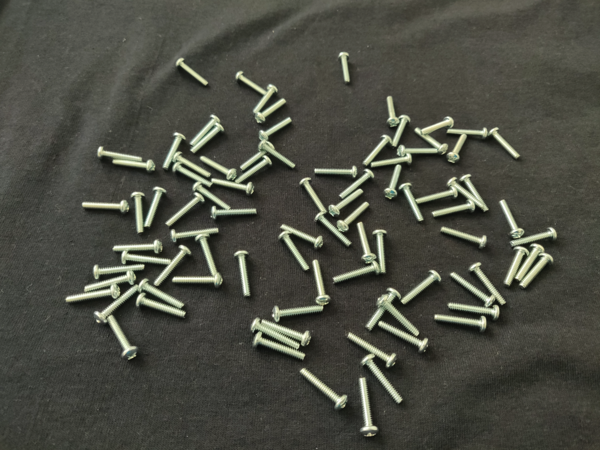longscrew: (356, 354, 405, 409), (299, 367, 349, 412), (345, 331, 399, 369), (375, 294, 421, 338), (93, 284, 140, 327), (468, 262, 508, 308), (378, 321, 430, 356), (250, 316, 302, 350), (153, 243, 193, 287), (449, 271, 496, 308), (105, 314, 140, 363), (365, 287, 403, 332), (252, 331, 307, 362), (355, 377, 381, 441), (165, 191, 206, 231), (400, 269, 442, 307), (139, 278, 188, 310), (261, 318, 313, 348), (313, 211, 353, 249), (518, 252, 555, 292), (278, 231, 311, 275), (135, 293, 189, 319), (446, 177, 486, 211), (83, 269, 138, 293), (279, 223, 325, 251), (433, 312, 489, 335), (515, 243, 547, 283), (332, 260, 381, 286), (194, 233, 221, 280), (487, 126, 522, 162), (440, 225, 490, 250), (459, 174, 490, 214), (65, 283, 121, 305), (193, 182, 234, 212), (233, 249, 256, 302), (502, 246, 531, 288), (170, 162, 215, 189), (257, 141, 298, 170), (399, 182, 426, 226), (339, 168, 375, 201), (446, 302, 502, 323), (298, 177, 328, 216), (234, 155, 274, 184), (498, 199, 526, 240), (239, 141, 276, 172), (189, 113, 222, 147), (191, 122, 226, 154), (336, 201, 371, 233), (413, 126, 449, 157), (172, 151, 213, 178), (310, 259, 333, 307), (175, 57, 211, 87), (510, 226, 559, 248), (143, 186, 168, 229), (328, 189, 366, 217), (161, 131, 187, 171), (363, 134, 394, 167), (271, 305, 327, 323), (198, 155, 238, 180), (355, 222, 378, 265), (92, 263, 147, 280), (252, 83, 280, 116), (414, 185, 458, 206), (169, 227, 223, 244), (171, 273, 225, 290), (254, 98, 289, 124), (258, 117, 294, 142), (235, 70, 269, 96), (212, 178, 256, 198), (432, 199, 476, 219), (80, 199, 131, 216), (112, 239, 165, 255), (373, 229, 390, 278), (209, 205, 261, 221), (121, 249, 172, 265), (383, 163, 403, 203), (96, 146, 145, 162), (130, 190, 147, 236), (447, 133, 470, 165), (371, 153, 414, 170), (420, 116, 456, 136), (392, 114, 412, 148), (112, 159, 156, 174), (314, 165, 359, 178), (447, 127, 490, 140), (397, 145, 439, 158), (385, 95, 401, 129), (338, 51, 353, 86)
